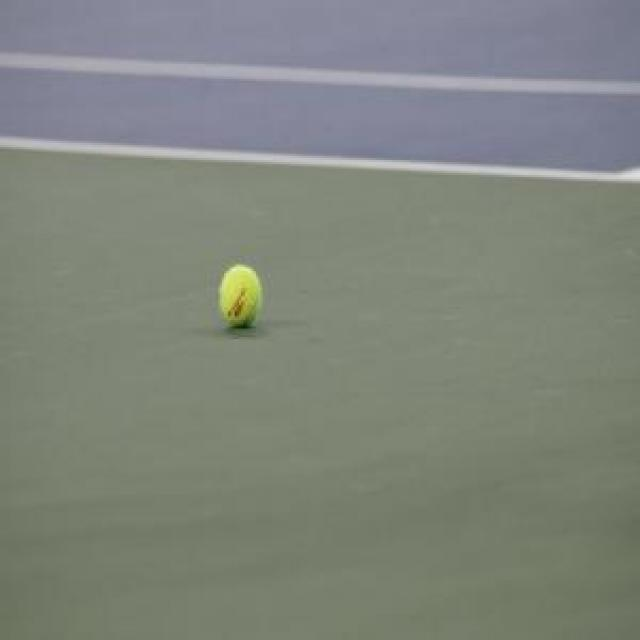Tennis-Ball: (219, 265, 261, 329)
